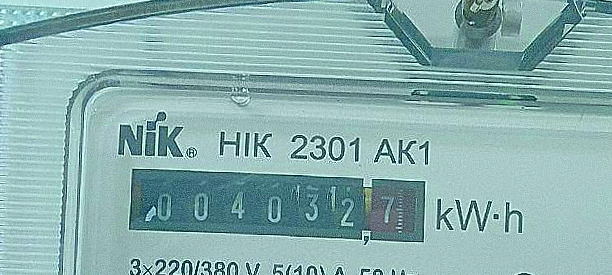0: (189, 189, 210, 223), (153, 188, 173, 222), (263, 191, 283, 225)
2: (337, 194, 356, 229)
3: (301, 190, 320, 223)
4: (226, 187, 247, 224)
7: (378, 192, 396, 226)
screen: (117, 159, 433, 255)
